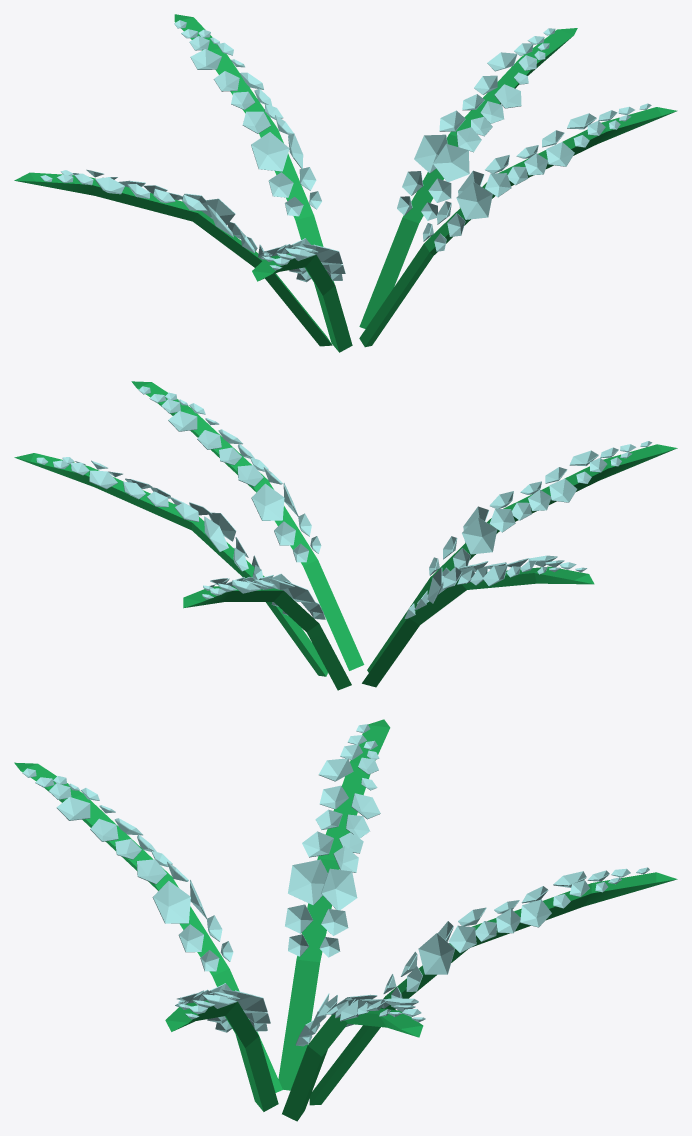
Rendered from Plant_c_03.fbx.
3 views of the same model, one above another, from view 1: azimuth 30°, elevation 25°; view 2: azimuth 150°, elevation 25°; view 3: azimuth 270°, elevation 25° (orthographic). The views are drawn at different scales.
Visible parts, largest first — view 1: Plant_c_03_LOD0; view 2: Plant_c_03_LOD0; view 3: Plant_c_03_LOD0.
Part boxes in pixels (bbox=[...]): Plant_c_03_LOD0: bbox=[14, 14, 677, 352]; Plant_c_03_LOD0: bbox=[14, 381, 677, 690]; Plant_c_03_LOD0: bbox=[14, 719, 677, 1121].
Size of what is drawn, in the model's own units: 11.67 by 3.95 by 10.28.
